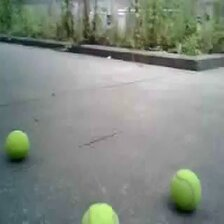tennis: (169, 167, 200, 210), (79, 202, 120, 224), (5, 129, 27, 156)
